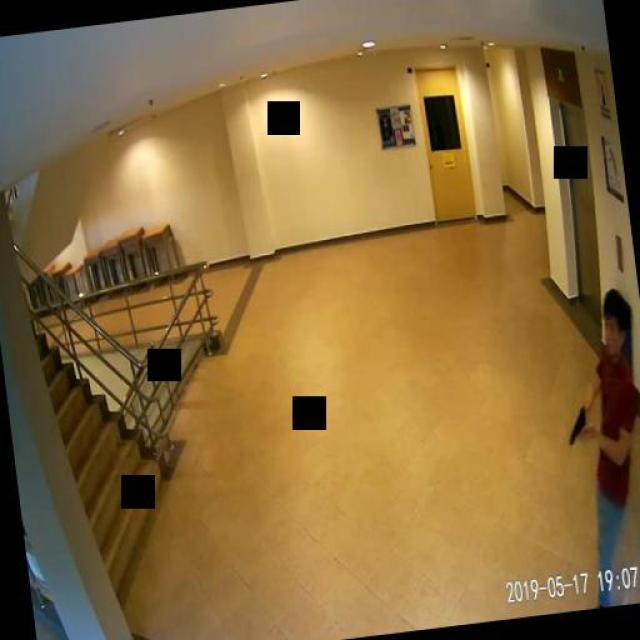gun: (565, 404, 589, 444)
